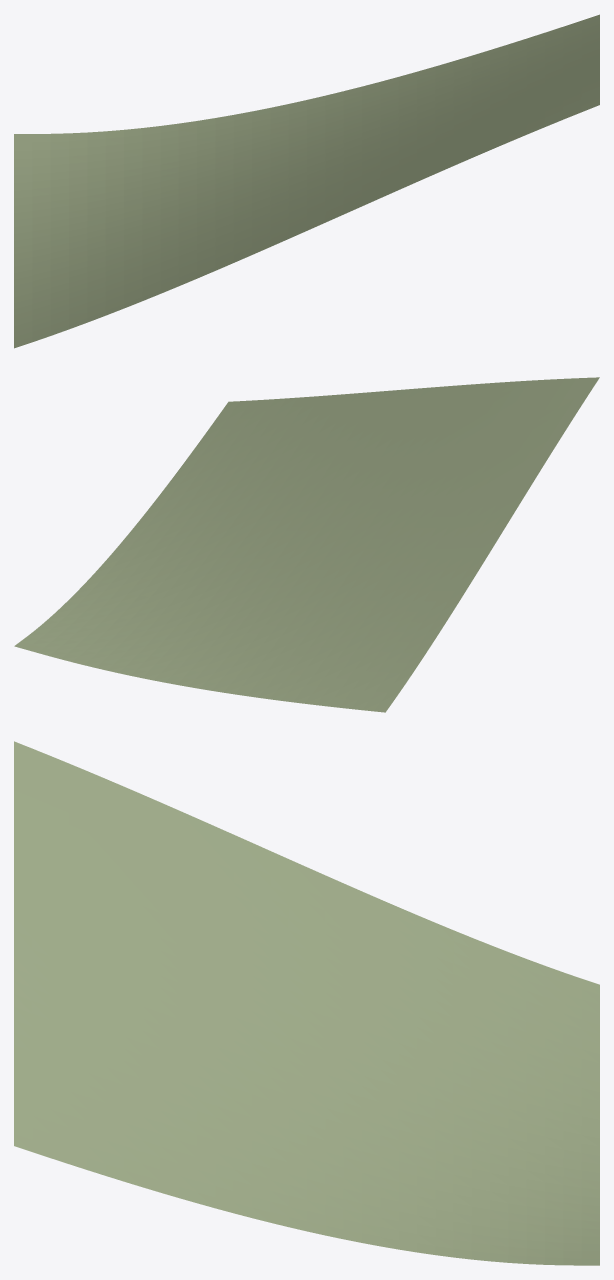
Rendered from expanse-22-2.glb.
The picture shows the model from 3 angles, top to bottom: view 1: azimuth 90°, elevation 25°; view 2: azimuth 150°, elevation 25°; view 3: azimuth 270°, elevation 25°; orthographic projection. The views are drawn at different scales.
Visible parts, largest first — view 1: expanse-22-2; view 2: expanse-22-2; view 3: expanse-22-2.
Part boxes in pixels (x1,y1,x2,y2): expanse-22-2: (14, 14, 599, 348); expanse-22-2: (14, 377, 599, 712); expanse-22-2: (14, 741, 599, 1265).
Bounding box in the file's own units: 256 × 135 × 256.
